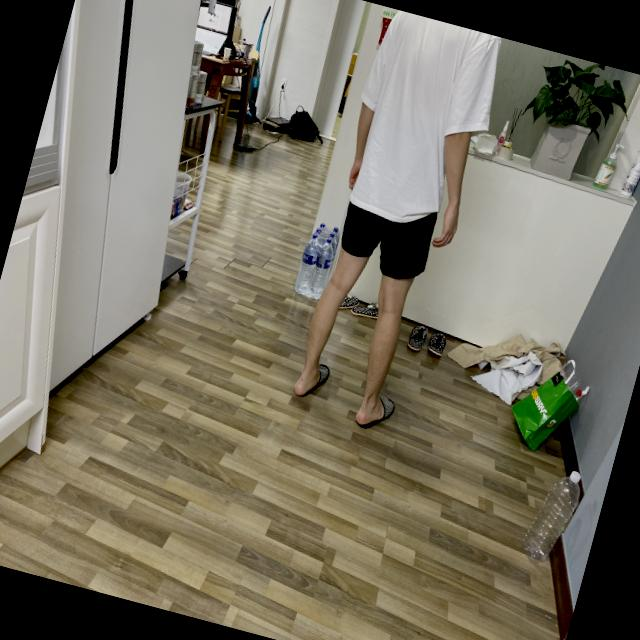no-boots: (340, 384, 416, 449), (274, 354, 338, 416)
